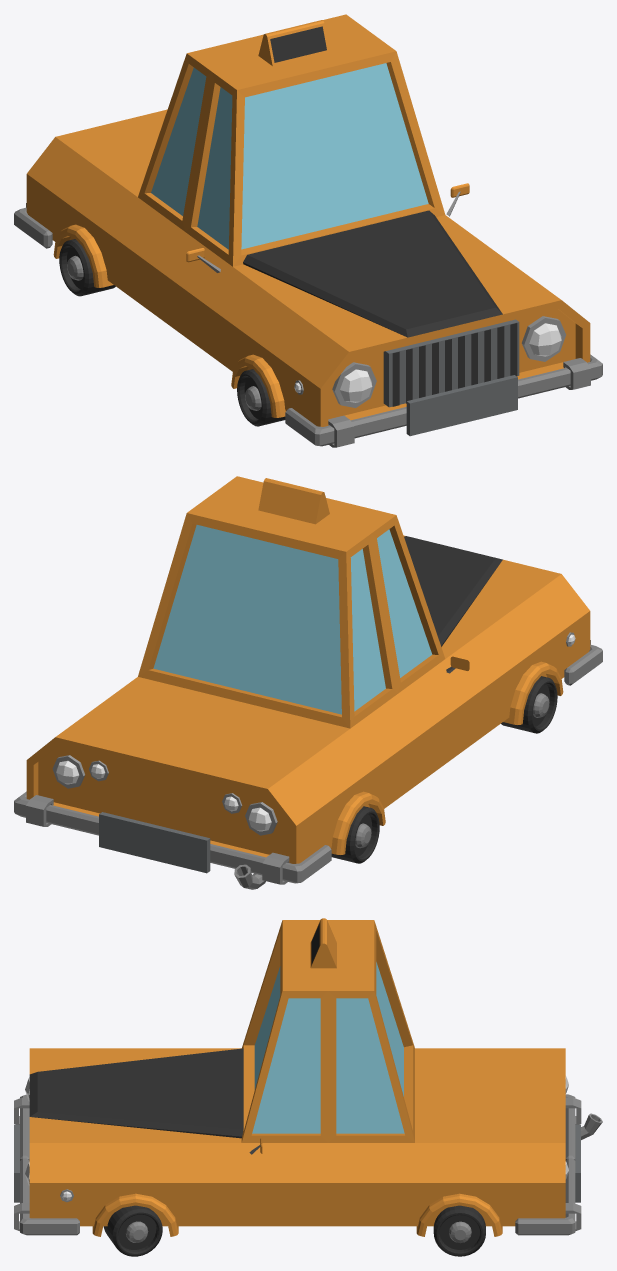
File: auto low 1.fbx
The picture shows the model from 3 angles, top to bottom: view 1: azimuth 30°, elevation 25°; view 2: azimuth 150°, elevation 25°; view 3: azimuth 270°, elevation 25°; orthographic projection. The views are drawn at different scales.
Parts seen in each view (by area): view 1: Car; view 2: Car; view 3: Car.
Boxes of the visible parts, <box> form: Car: <box>14,14,602,447</box>; Car: <box>14,476,602,889</box>; Car: <box>14,918,602,1256</box>.
Bounding box in the file's own units: 4.22 × 3.82 × 7.81.
